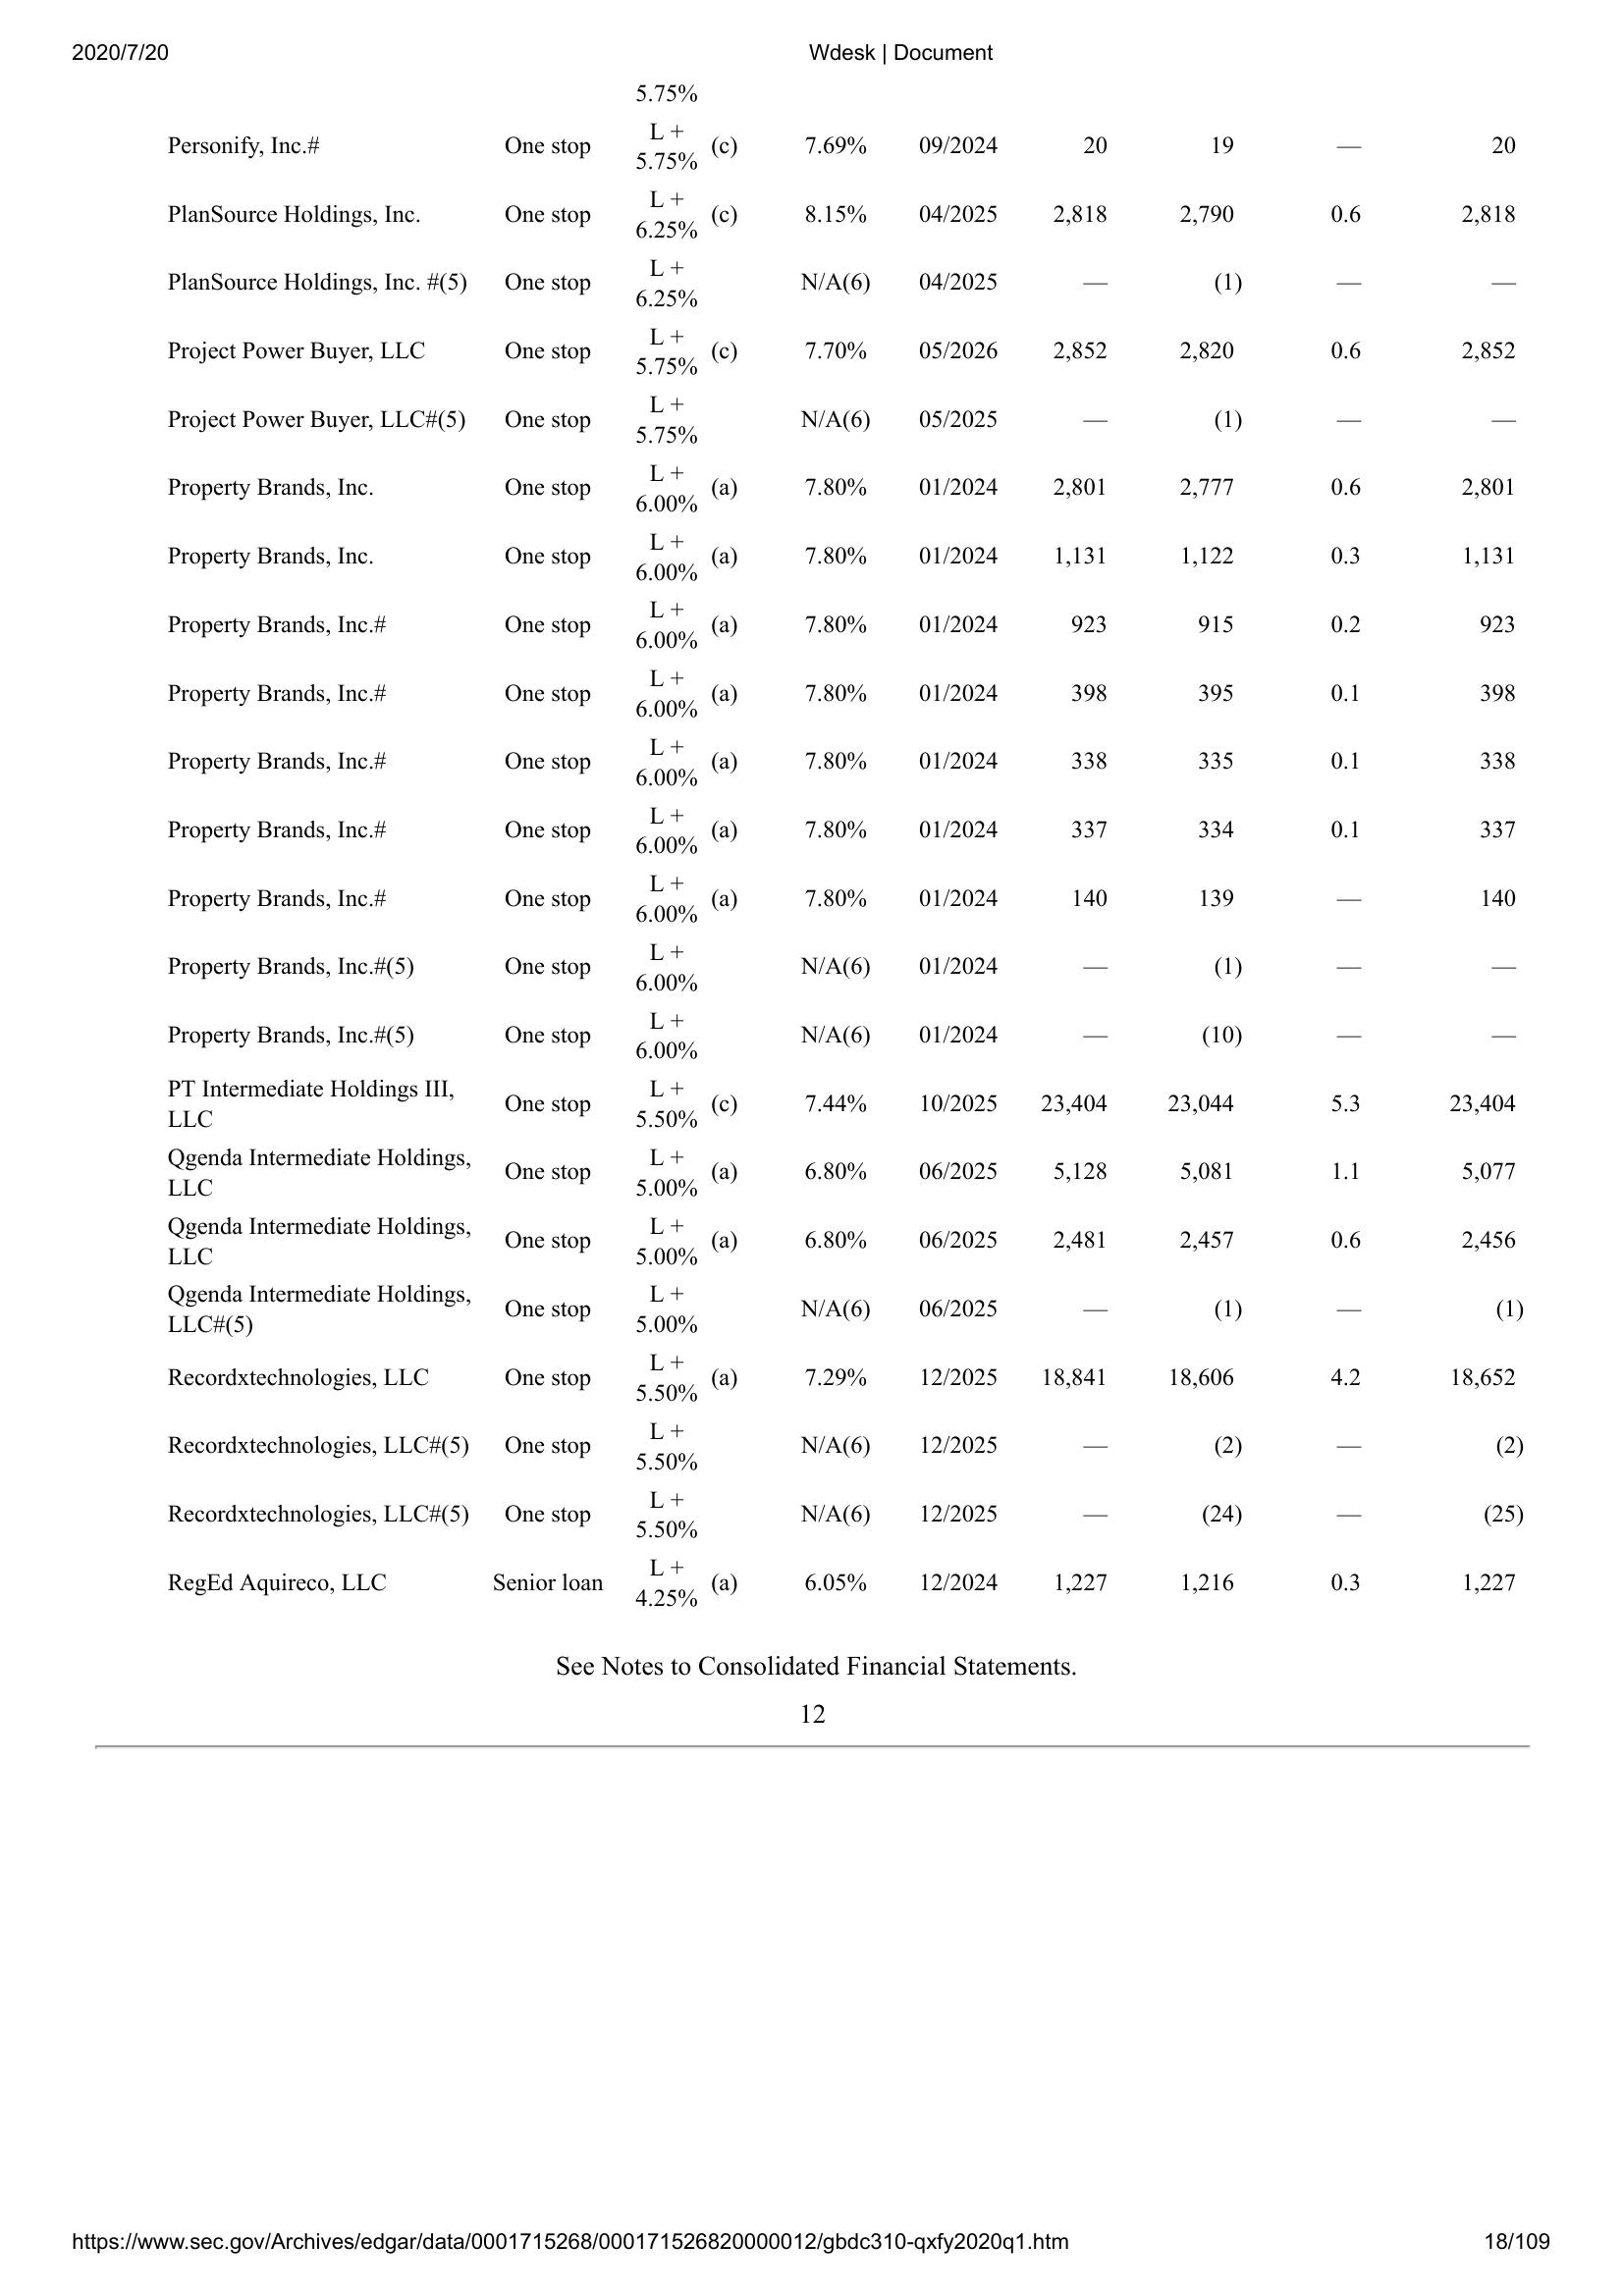table: (148, 70, 1540, 1620)
